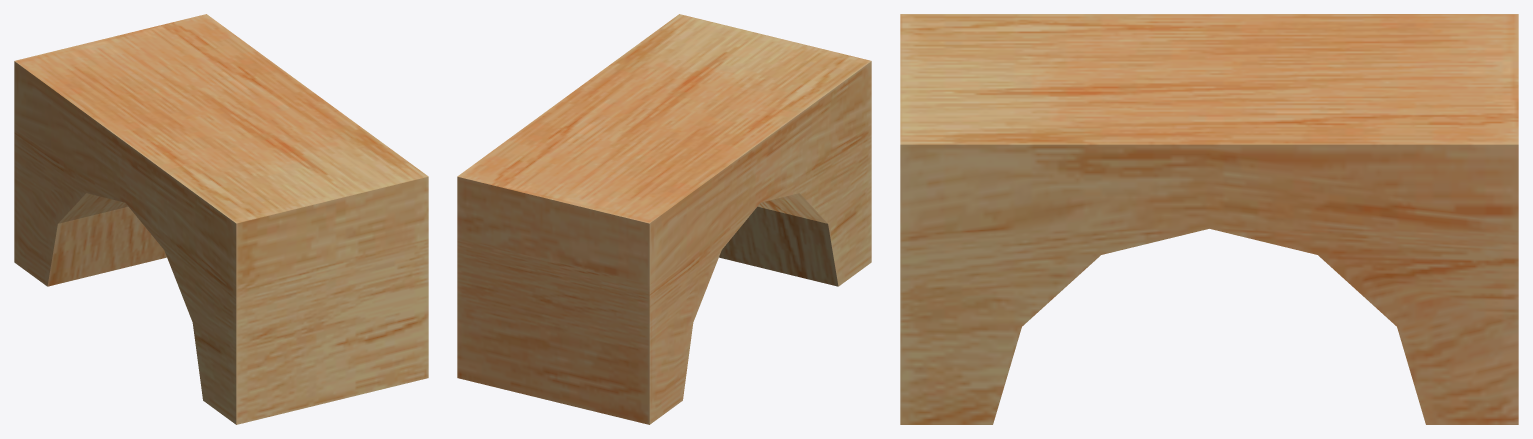
Rendered from BridgeBlock_Wood.fbx.
The picture shows the model from 3 angles, left to right: view 1: azimuth 30°, elevation 25°; view 2: azimuth 150°, elevation 25°; view 3: azimuth 270°, elevation 25°; orthographic projection. The views are drawn at different scales.
Visible parts, largest first — view 1: Cube.037; view 2: Cube.037; view 3: Cube.037.
Part boxes in pixels (<box>): Cube.037: <box>14,14,428,424</box>; Cube.037: <box>457,14,871,424</box>; Cube.037: <box>900,14,1518,424</box>.
Bounding box in the file's own units: 100 × 100 × 200.
